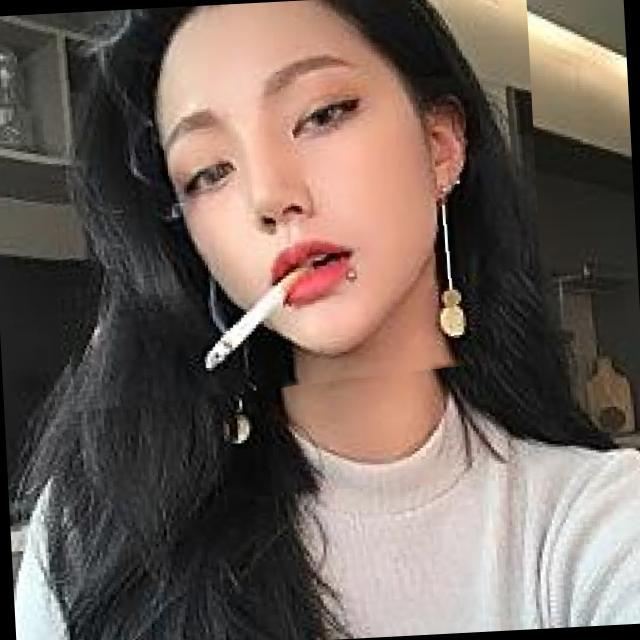cigarette: (141, 249, 330, 406)
